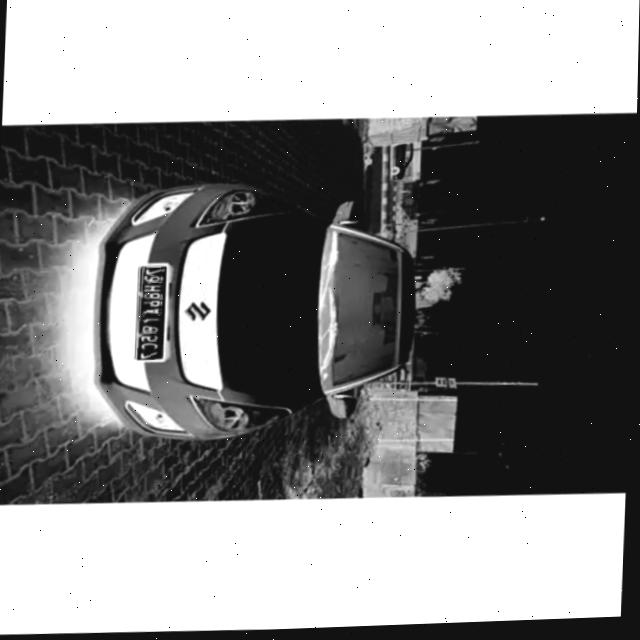0: (143, 325, 160, 334)
1: (142, 316, 160, 325)
5: (142, 284, 162, 293)
6: (143, 276, 161, 283)
7: (145, 268, 162, 276)
8: (143, 292, 161, 300)
A: (142, 309, 160, 316)
C: (140, 342, 159, 351)
H: (141, 334, 160, 342)
IND: (145, 351, 160, 360)
Indian_registered: (136, 267, 166, 361)
P: (142, 300, 161, 309)
